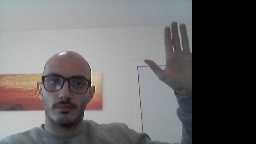Mano_aperta: (142, 19, 192, 96)
